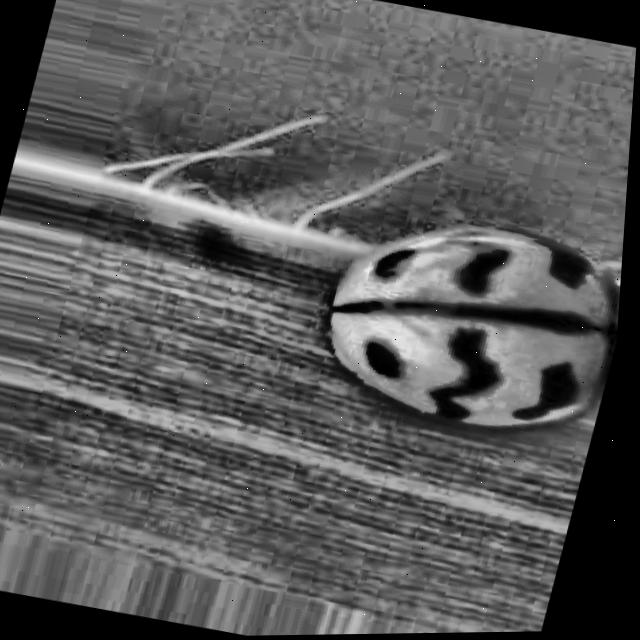Asian-Lady-beetle: (243, 157, 631, 494)
